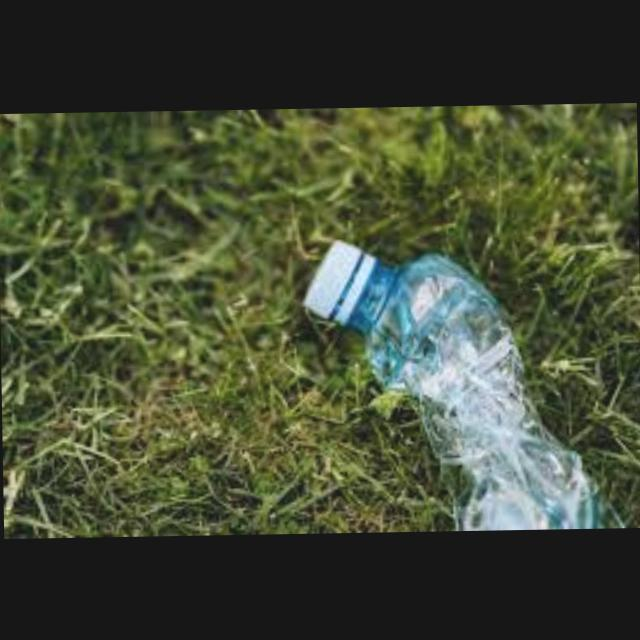trash: (273, 224, 632, 533)
